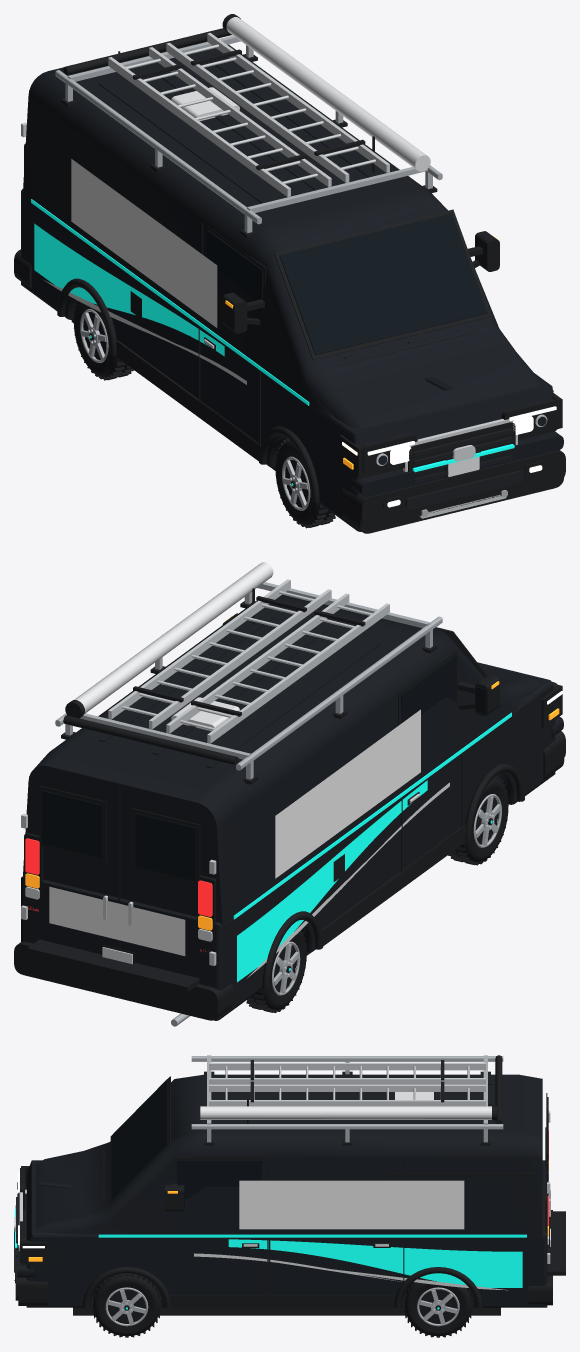
Rendered from full-size-van.glb.
The picture shows the model from 3 angles, top to bottom: view 1: azimuth 30°, elevation 25°; view 2: azimuth 150°, elevation 25°; view 3: azimuth 270°, elevation 25°; orthographic projection. The views are drawn at different scales.
Visible parts, largest first — view 1: body_paint, body_plastic-dark, body_glass, rack_aluminum, body_decal-left, body_accent, rack_steel, rack_white, rack_plastic-dark, body_underbody, body_white, wheel_fl_rubber (+5 smaller); view 2: body_paint, body_plastic-dark, rack_aluminum, body_decal-left, body_glass, body_accent, body_decal-rear, rack_steel, rack_white, rack_plastic-dark, body_white, wheel_fl_rubber (+5 smaller); view 3: body_paint, body_plastic-dark, body_decal-right, rack_aluminum, body_accent, body_glass, rack_steel, rack_white, body_underbody, wheel_fr_rubber, wheel_rr_rubber, body_white (+6 smaller).
Part boxes in pixels (x1,y1,x2,y2): body_paint: (21,41,563,531); body_plastic-dark: (14,51,565,533); body_glass: (207,213,546,464); rack_aluminum: (108,33,389,196); body_decal-left: (71,159,217,327); body_accent: (31,199,514,472); rack_steel: (55,35,442,232); rack_white: (226,17,430,171); rack_plastic-dark: (61,14,437,238); body_underbody: (71,318,523,509); body_white: (44,87,479,476); wheel_fl_rubber: (275,438,335,528); body_paint: (21,594,563,1020); body_plastic-dark: (14,588,565,1020); rack_aluminum: (108,579,389,743); body_decal-left: (275,709,420,878); body_glass: (42,655,485,880); body_accent: (233,712,511,982); body_decal-rear: (49,886,185,955); rack_steel: (55,582,442,779); rack_white: (74,562,273,713); rack_plastic-dark: (61,596,437,784); body_white: (25,697,449,978); wheel_fl_rubber: (448,775,508,865); body_paint: (17,1074,547,1307); body_plastic-dark: (15,1076,565,1308); body_decal-right: (239,1180,464,1229); rack_aluminum: (209,1062,485,1106); body_accent: (15,1208,526,1287); body_glass: (17,1079,548,1249); rack_steel: (191,1055,503,1142); rack_white: (200,1106,491,1119); body_underbody: (14,1197,500,1315); wheel_fr_rubber: (92,1273,161,1337); wheel_rr_rubber: (404,1278,472,1337); body_white: (194,1092,550,1290).
Size of the model in its own units: 2.75 by 2.87 by 6.38.
